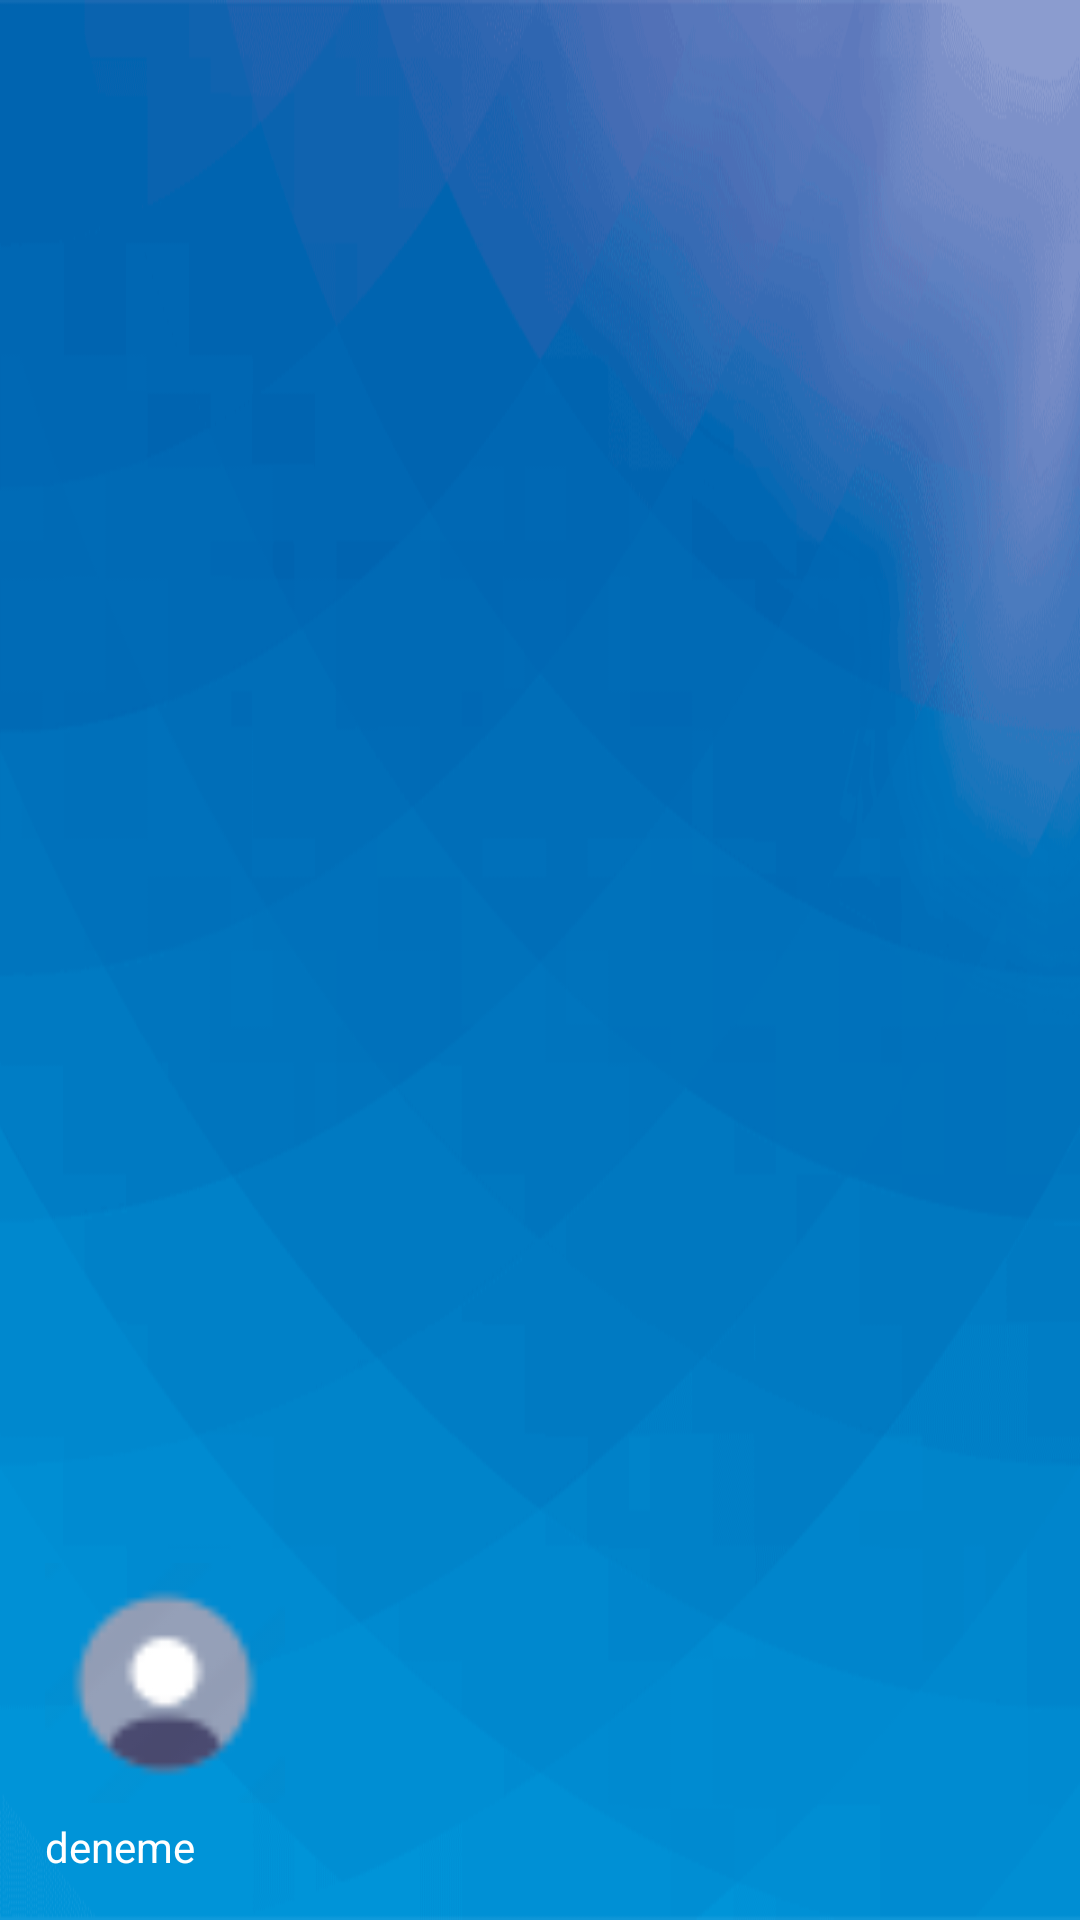

Screen size 1080×1920. Icon name, then its box in pixels as (x1, y1, x2, y2):
ppdefaulth: (74, 1592, 256, 1774)
